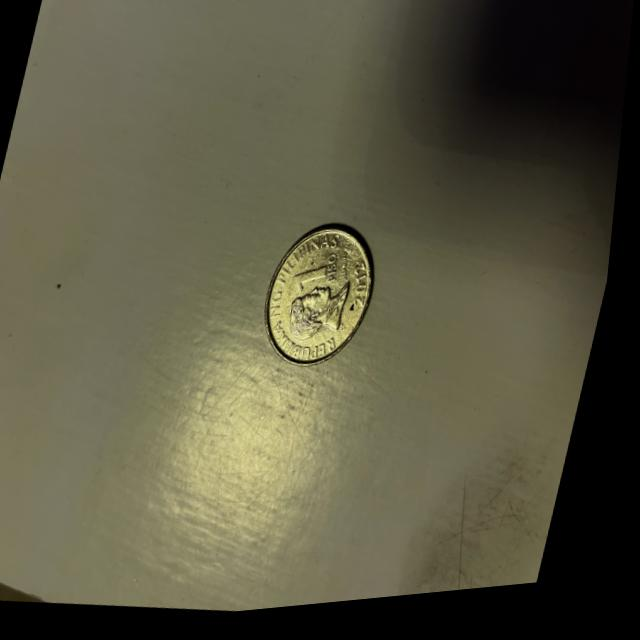1_Old_Front: (296, 252, 354, 310)
